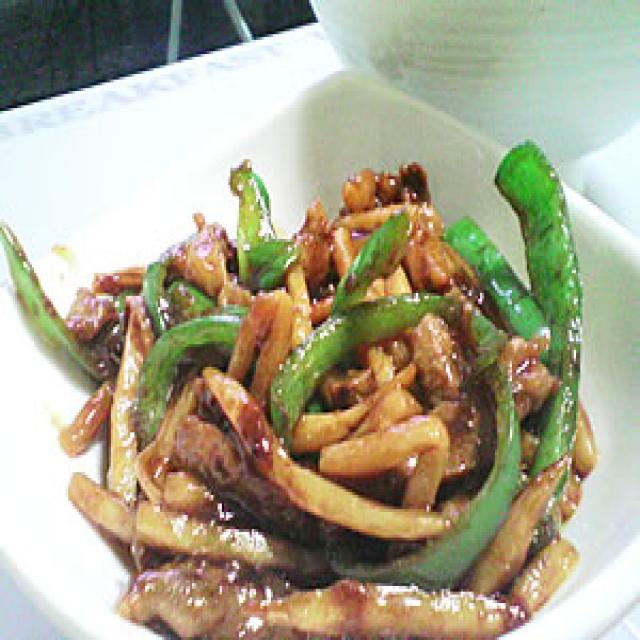牛肉菜式: (0, 54, 640, 640)
